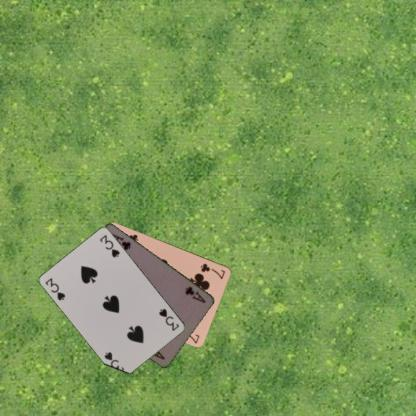3s: (157, 306, 180, 332), (43, 276, 66, 302)
7c: (198, 261, 227, 280)
Ac: (182, 284, 208, 304)
